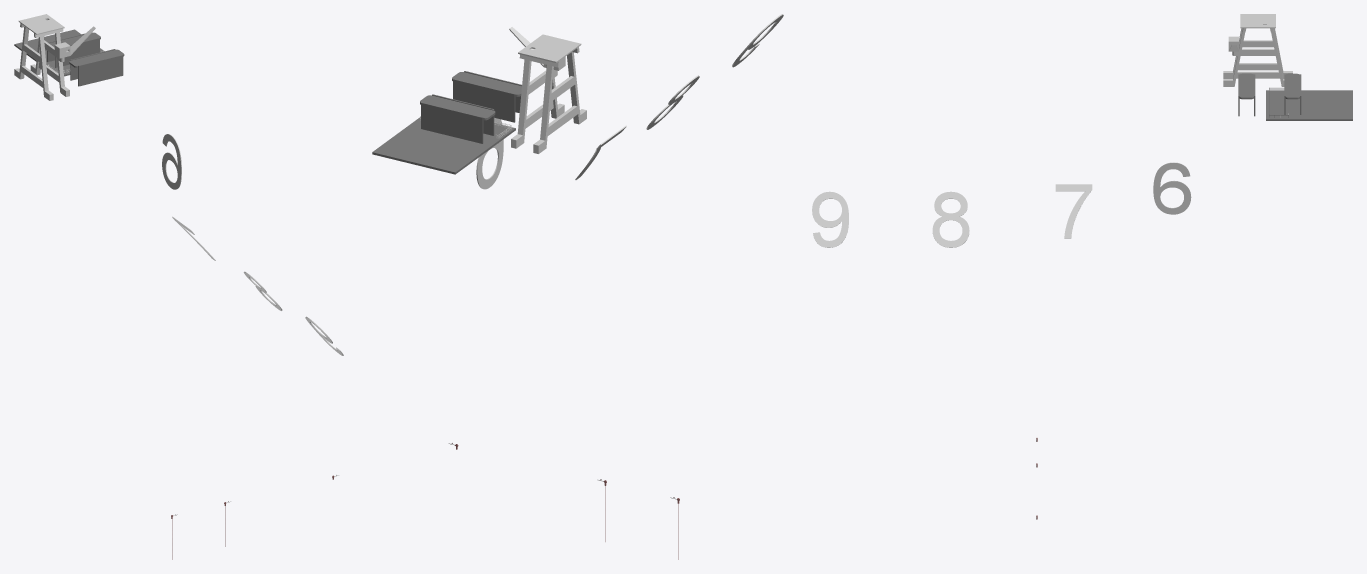
3 renders of one model, left to right at view 1: azimuth 30°, elevation 25°; view 2: azimuth 150°, elevation 25°; view 3: azimuth 270°, elevation 25°, orthographic. The views are drawn at different scales.
Bounding box in the file's own units: 40.57 × 89.15 × 96.51.
